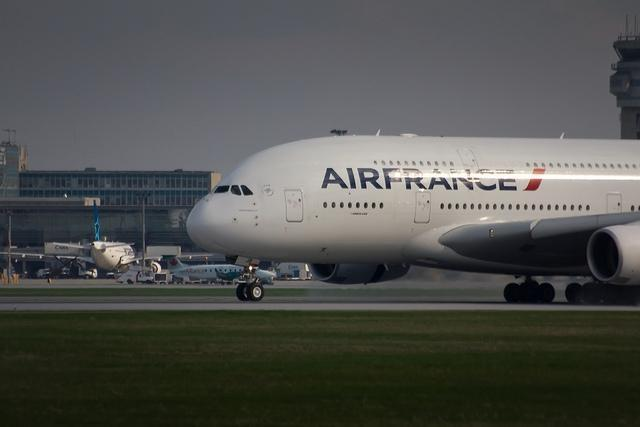truck: (128, 257, 191, 272), (117, 271, 154, 284), (154, 272, 168, 284)
